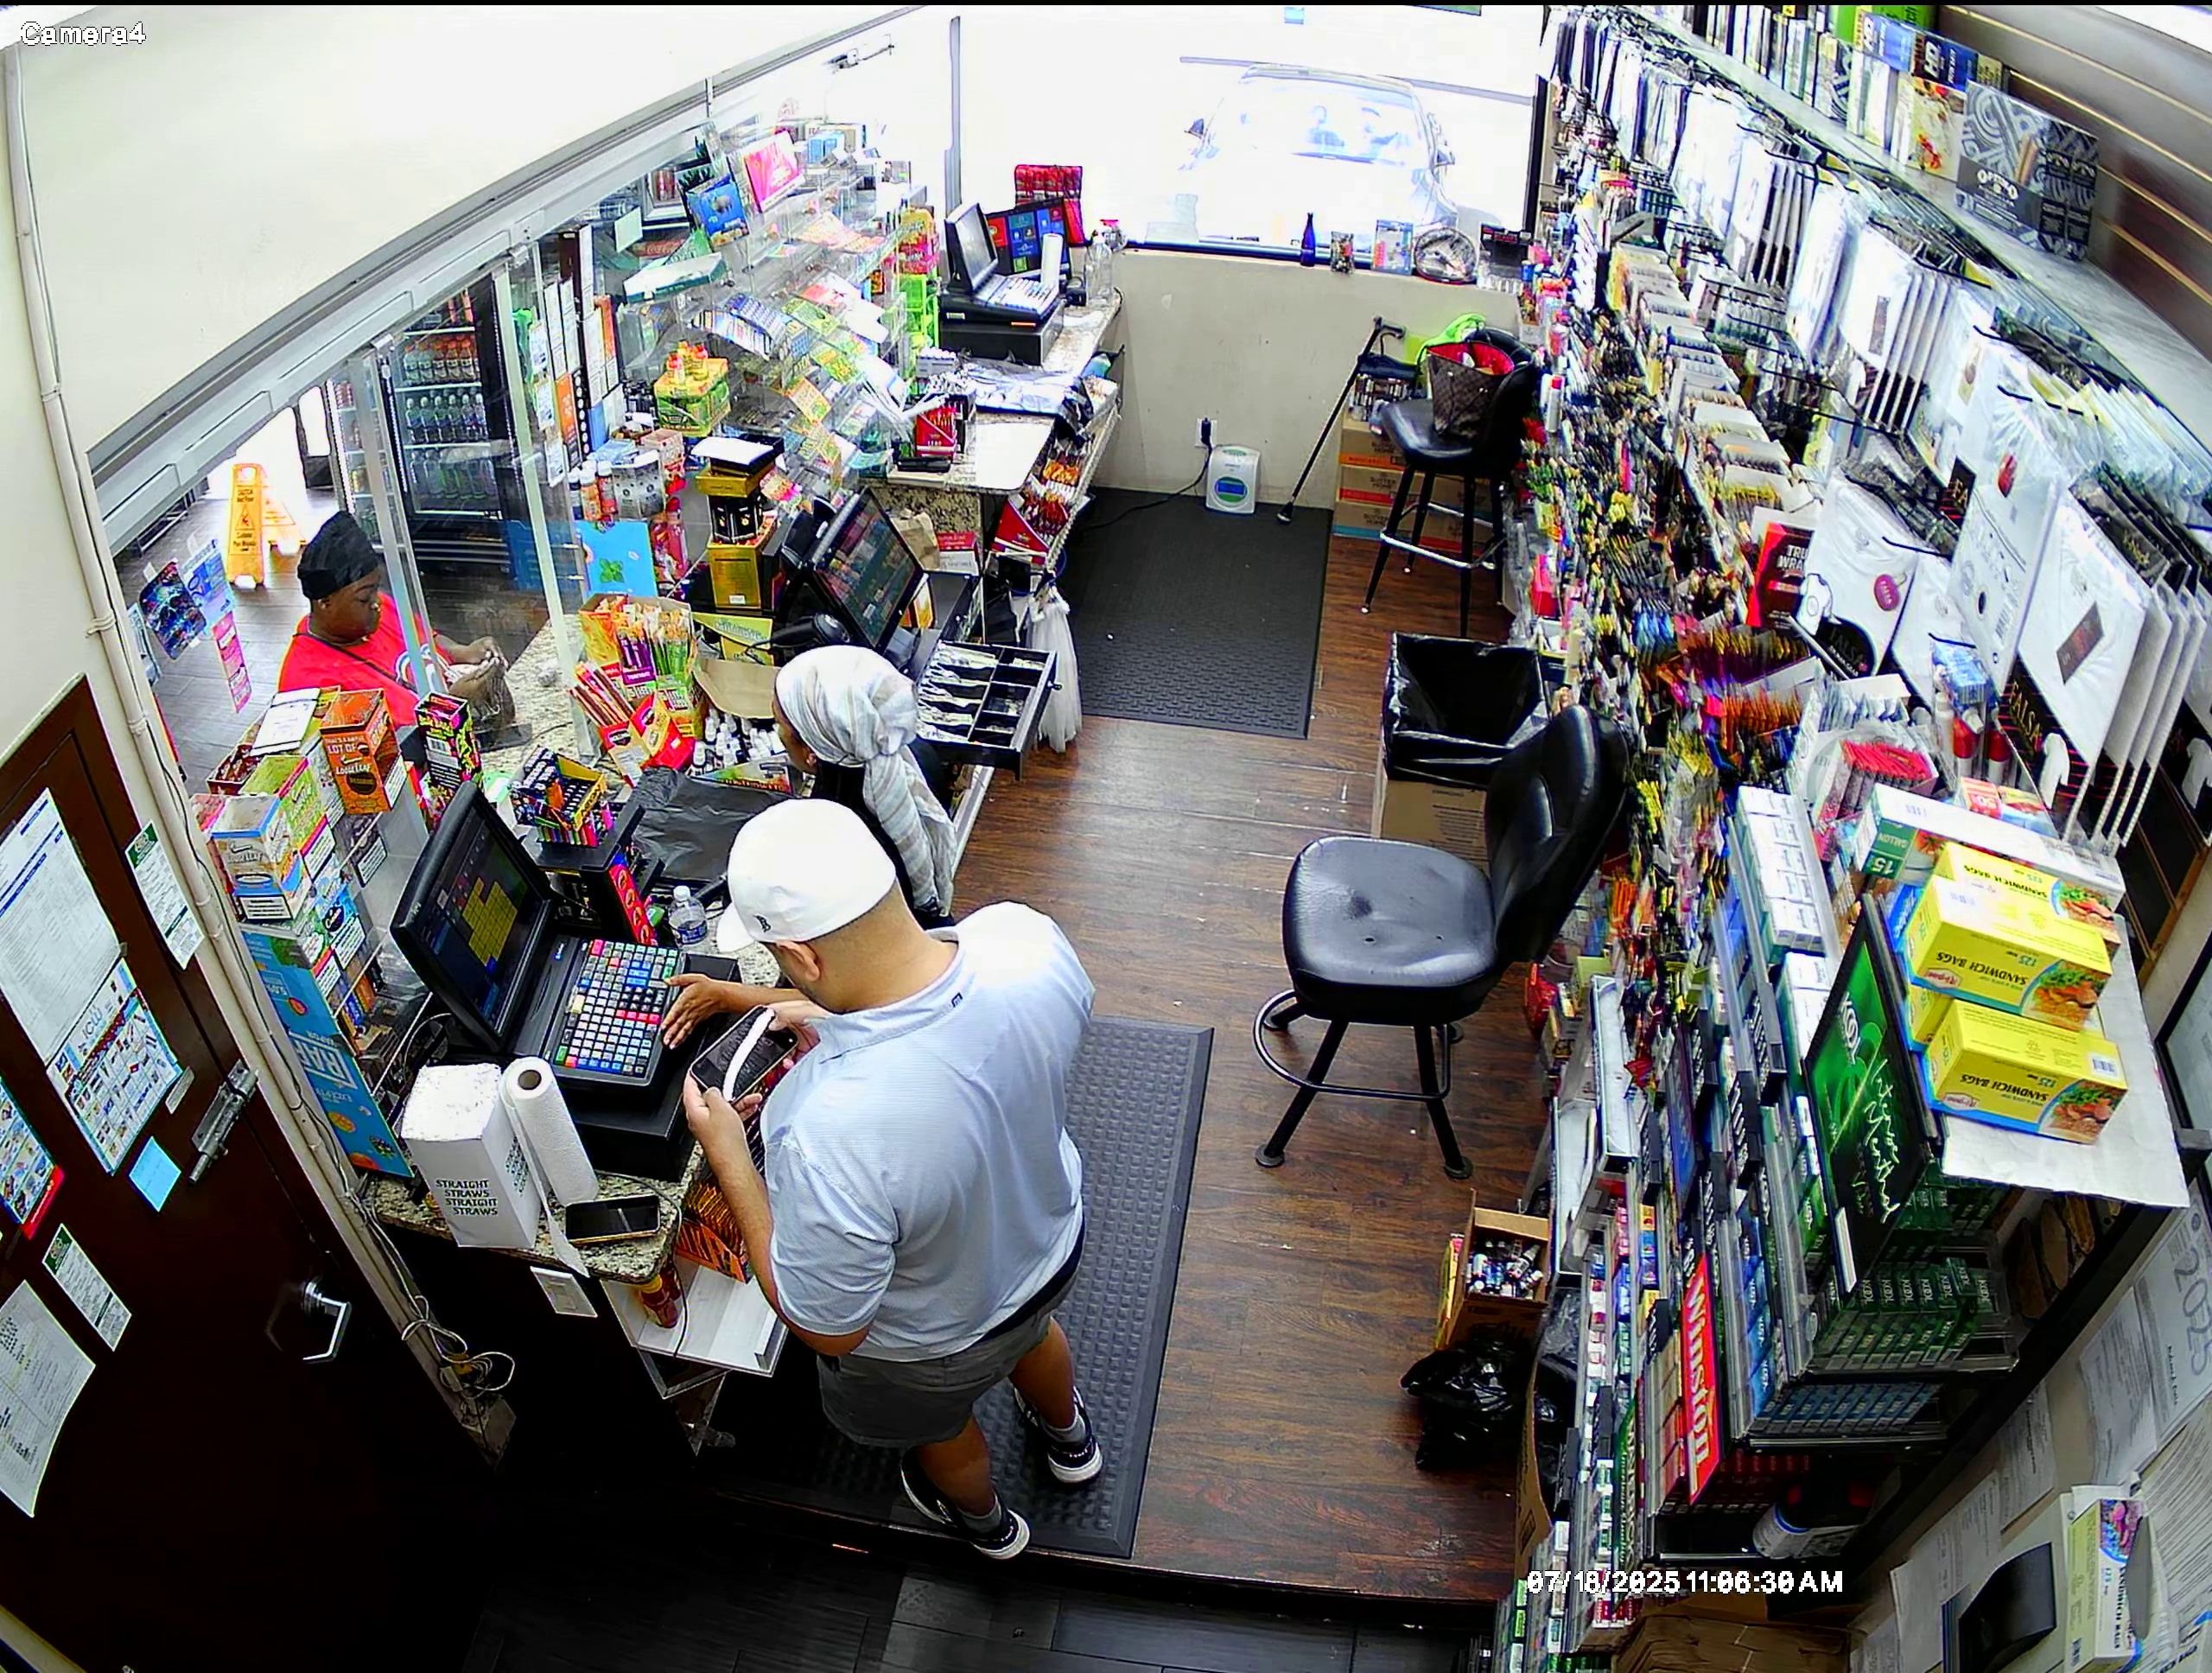phone: (680, 995, 806, 1114)
